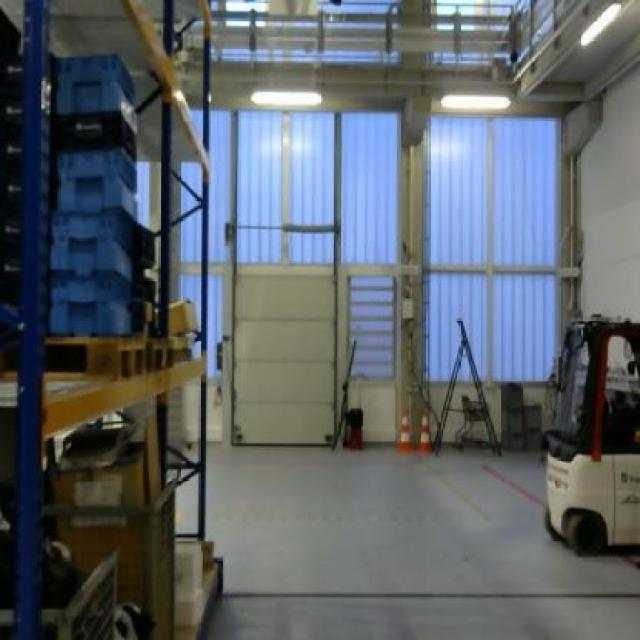box: (170, 298, 198, 337)
